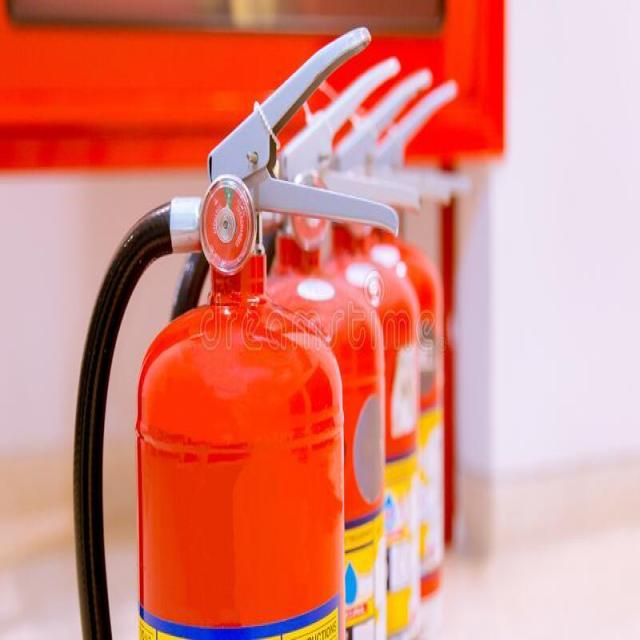fire_extinguisher: (62, 12, 404, 638), (159, 47, 428, 638)
